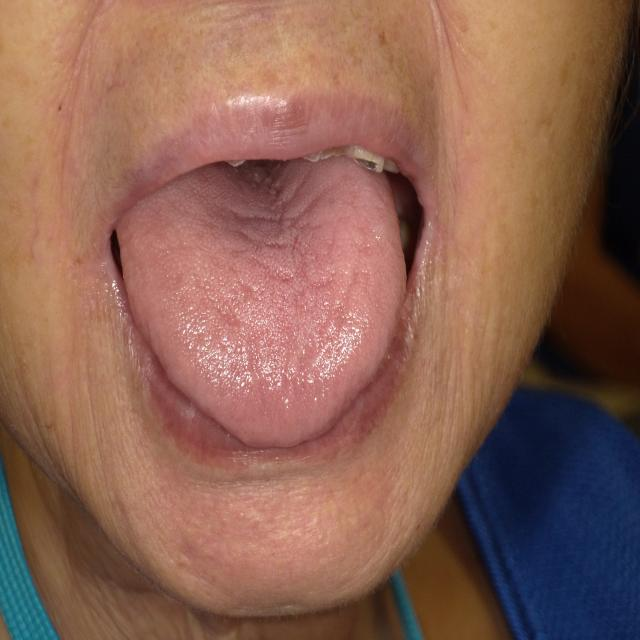liewenshe: (231, 188, 335, 251)
pangdashe: (114, 155, 406, 447)
shenquao: (195, 155, 334, 204)
